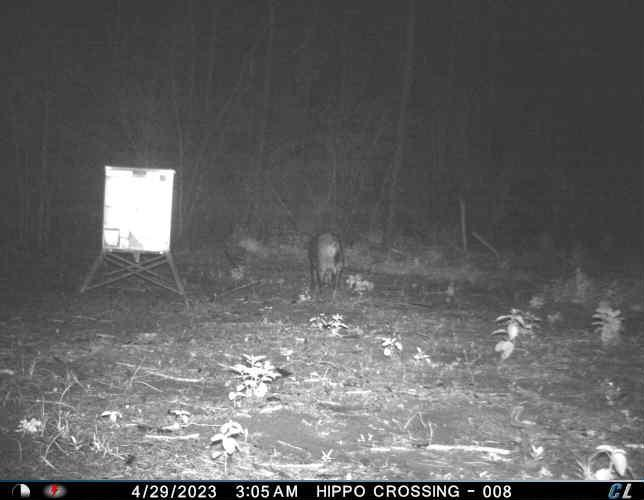Hog: (301, 227, 349, 301)
